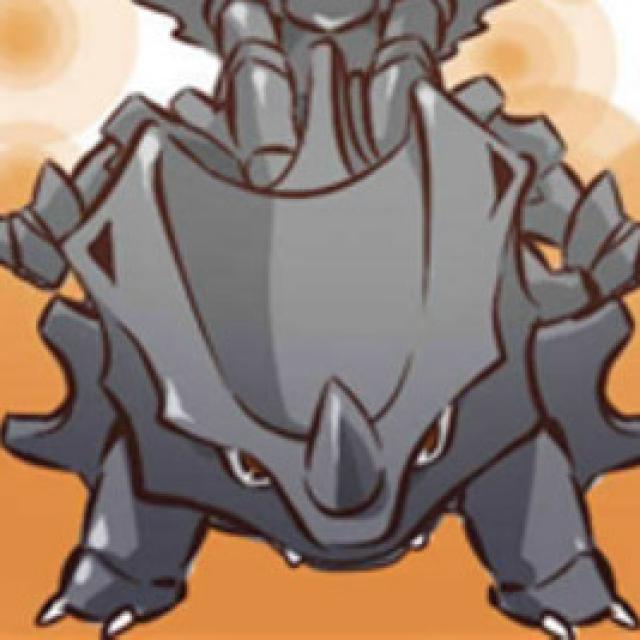Rhyhorn: (74, 96, 600, 597)
